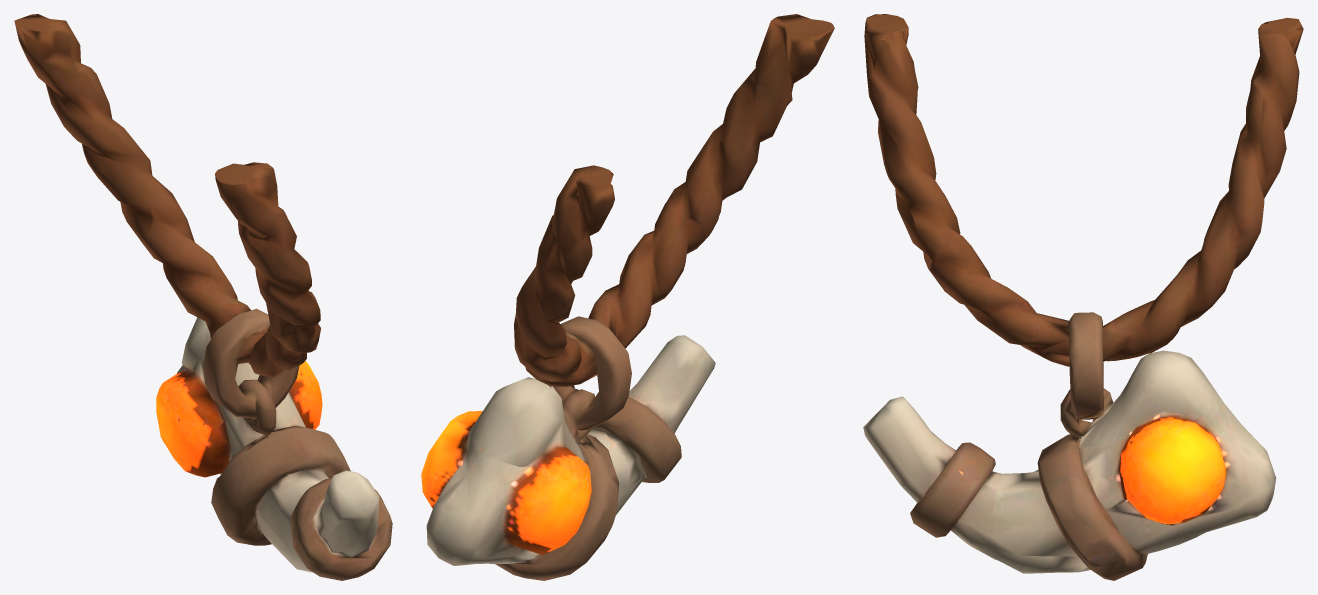
File: uq_amu_warhorn-BpHd382V.glb
3 views of the same model, side by side, from view 1: azimuth 30°, elevation 25°; view 2: azimuth 150°, elevation 25°; view 3: azimuth 270°, elevation 25° (orthographic). The views are drawn at different scales.
Parts seen in each view (by area): view 1: tripo_node_4653a029-3eec-4240-b94f-69f602390544; view 2: tripo_node_4653a029-3eec-4240-b94f-69f602390544; view 3: tripo_node_4653a029-3eec-4240-b94f-69f602390544.
Part boxes in pixels (bbox=[...]): tripo_node_4653a029-3eec-4240-b94f-69f602390544: bbox=[14, 14, 392, 580]; tripo_node_4653a029-3eec-4240-b94f-69f602390544: bbox=[421, 14, 834, 580]; tripo_node_4653a029-3eec-4240-b94f-69f602390544: bbox=[863, 14, 1303, 580].
Bounding box in the file's own units: 0.5199 × 1 × 0.8359.
1 material, 1 textured.
